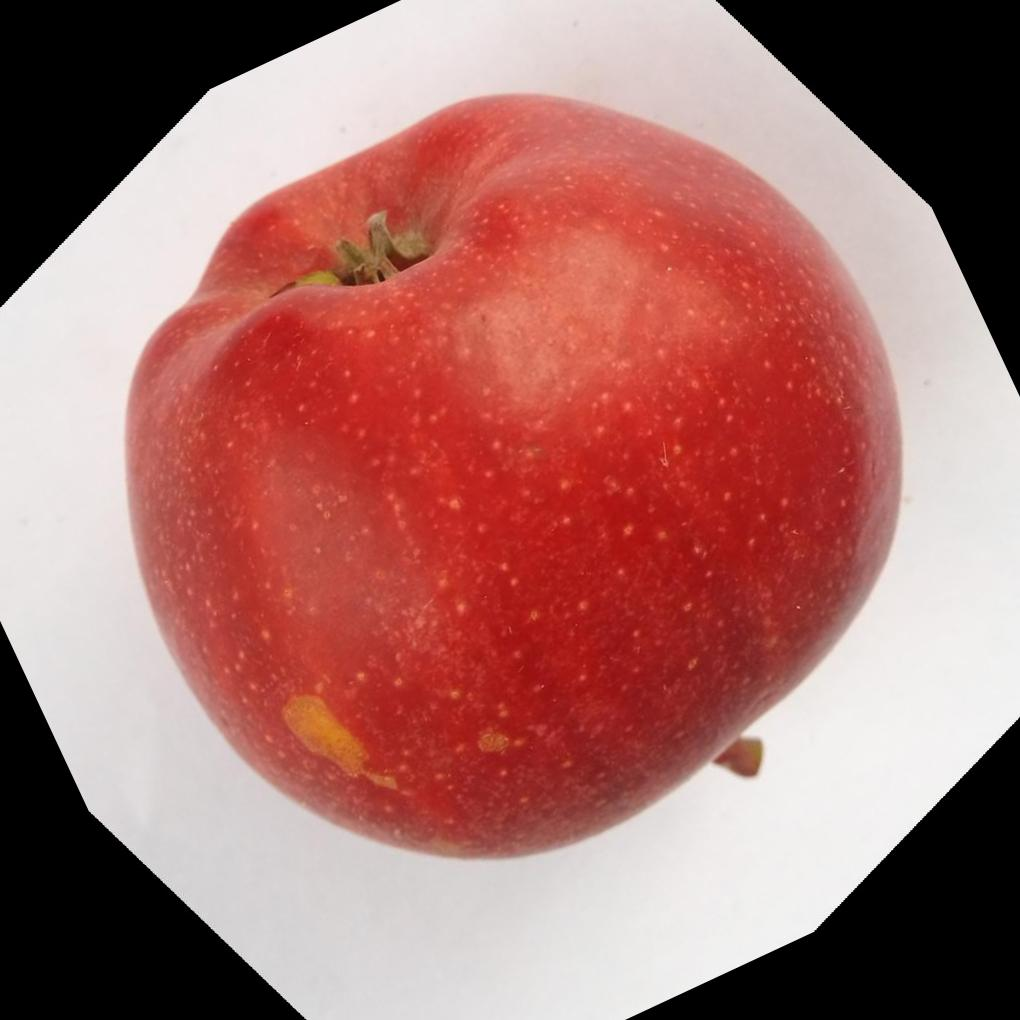FreshGuava: (117, 75, 905, 860)
